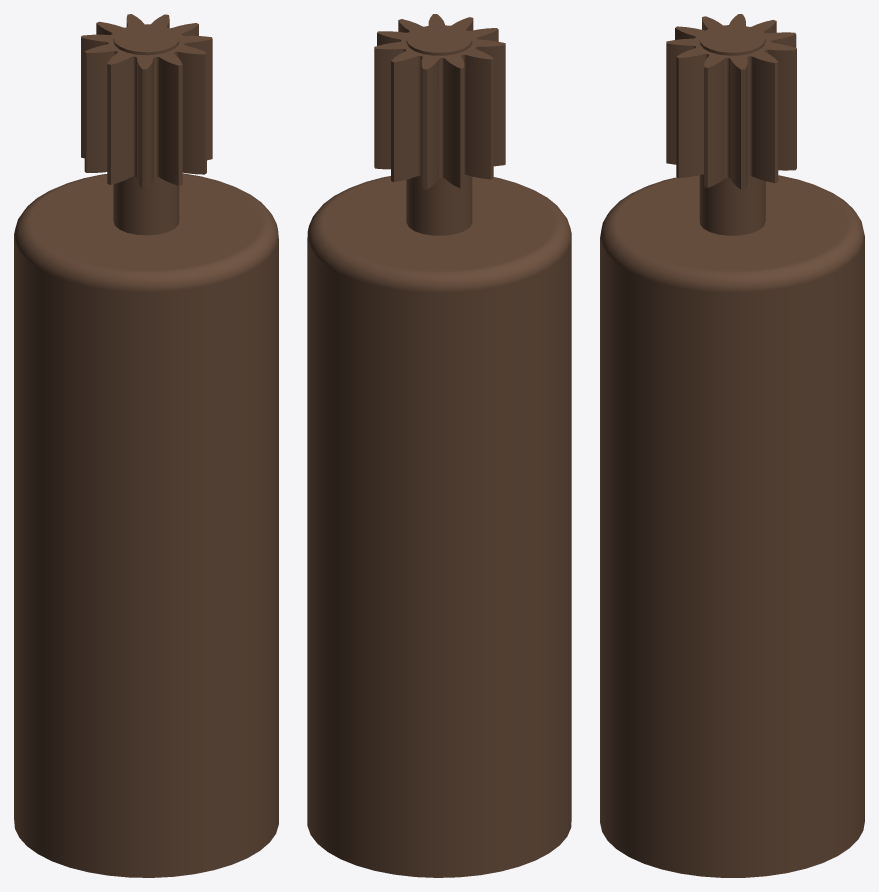
File: Gearing.glb
3 views of the same model, side by side, from view 1: azimuth 30°, elevation 25°; view 2: azimuth 150°, elevation 25°; view 3: azimuth 270°, elevation 25° (orthographic).
Parts seen in each view (by area): view 1: Solid1.014; view 2: Solid1.014; view 3: Solid1.014.
Part boxes in pixels (x1,y1,x2,y2): Solid1.014: [14, 14, 278, 877]; Solid1.014: [307, 14, 571, 877]; Solid1.014: [600, 14, 864, 877].
Bounding box in the file's own units: 0.00798 × 0.0261 × 0.008.
